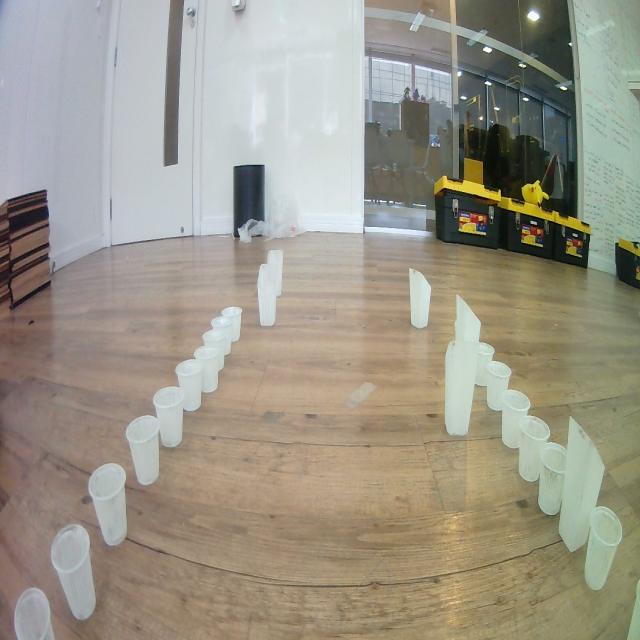erva_daninha: (558, 415, 606, 553), (444, 339, 480, 436), (408, 266, 432, 330), (454, 293, 482, 345), (257, 263, 278, 327), (266, 249, 284, 297)
planta: (50, 523, 97, 621), (88, 462, 129, 546), (583, 505, 623, 591), (125, 414, 160, 486), (517, 414, 551, 482), (13, 586, 55, 640), (538, 442, 568, 516), (153, 386, 184, 448), (500, 388, 531, 448), (175, 358, 204, 412), (486, 360, 512, 412), (193, 346, 220, 394), (202, 329, 225, 371), (474, 342, 495, 387), (211, 315, 232, 356), (221, 306, 243, 342), (628, 577, 640, 640)
